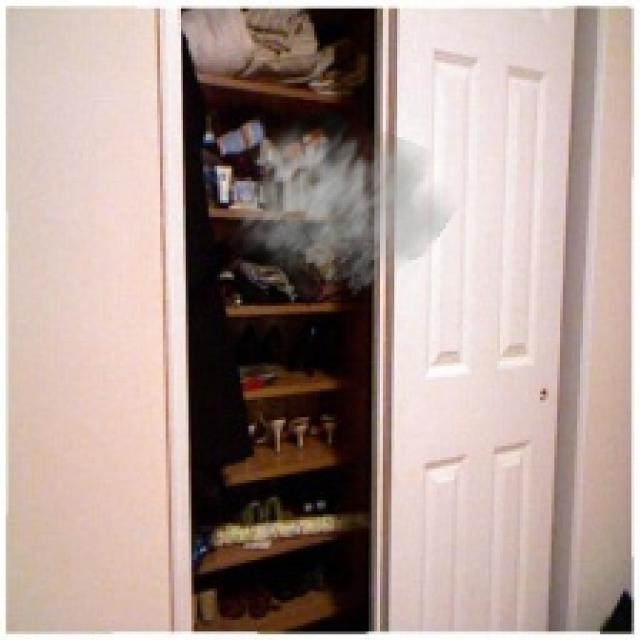smoke: (223, 97, 463, 297)
